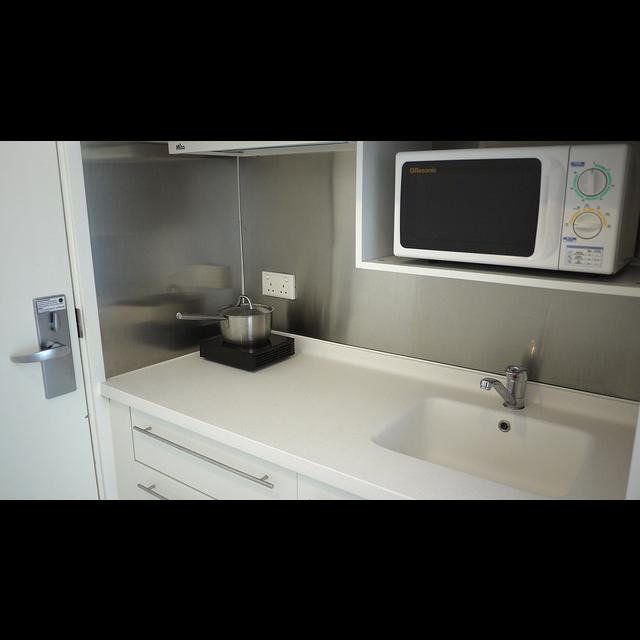Microwave: (393, 142, 640, 272)
